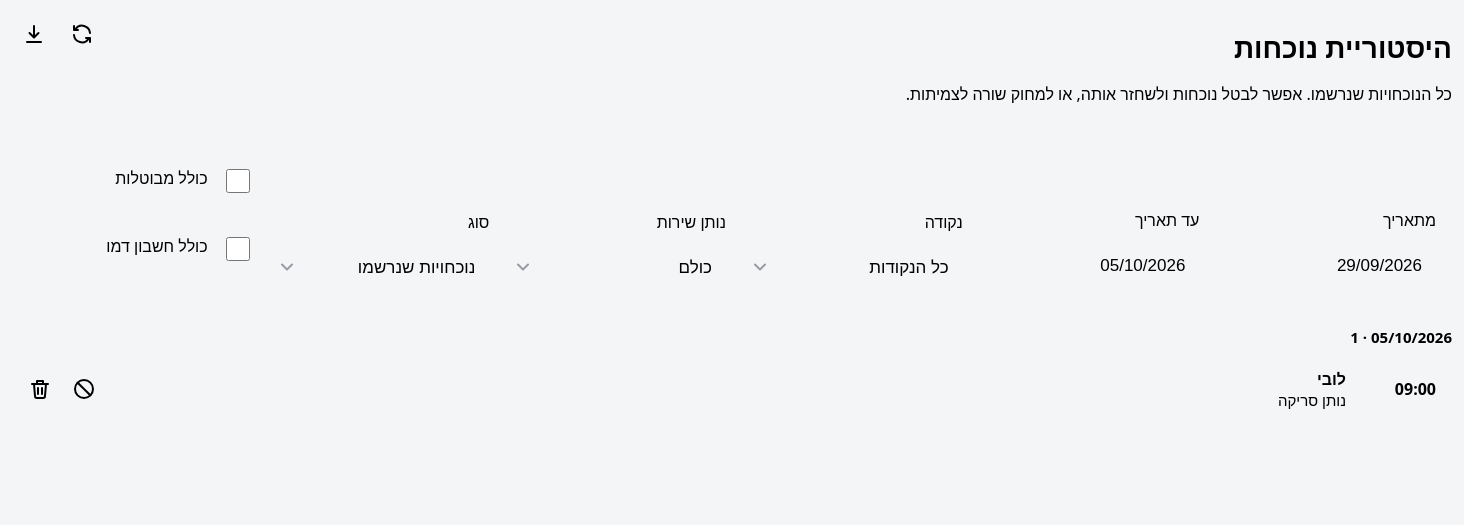
a row of a visit that was not counted › says "מהתור בטלפון" for a visit from the phone's queue and "בזמן אמת" for one that came online
Expected: the text "נותן סריקה" is shown, [1278,390,1346,410]
Select "לא נקלטו" in the dropdown labelled "סוג". click: (377, 267)
box: [265,241,489,293]
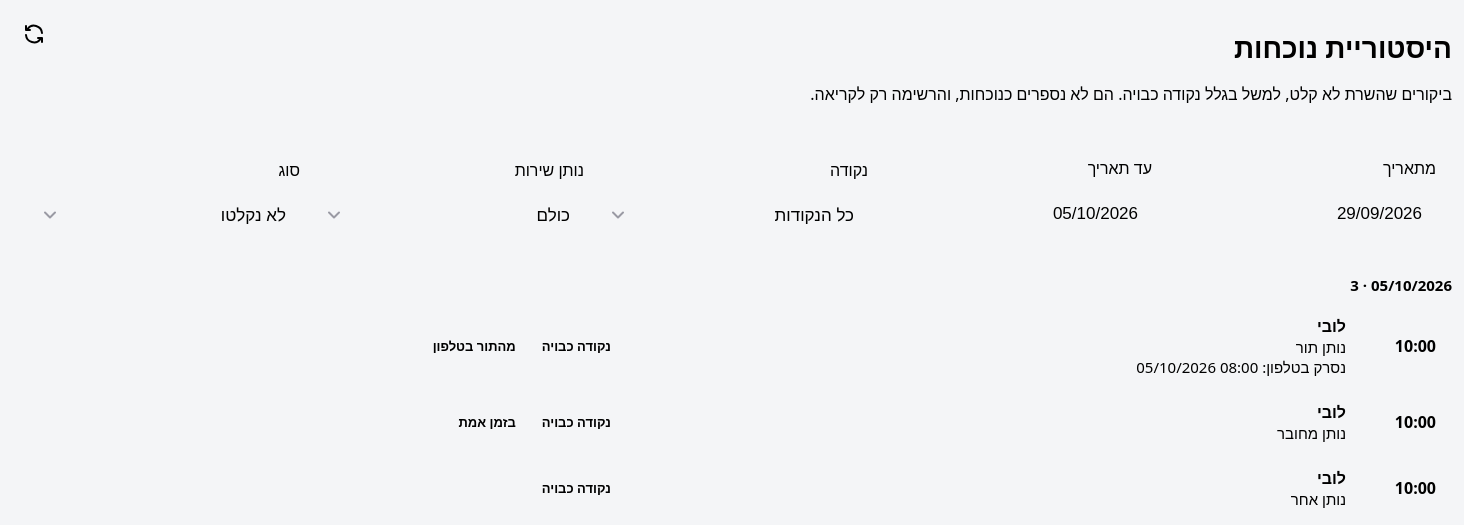
Expected: the text "בזמן אמת" is shown, [458,413,516,431]
Expected: the text "מהתור בטלפון" is shown once, [433,337,516,355]
